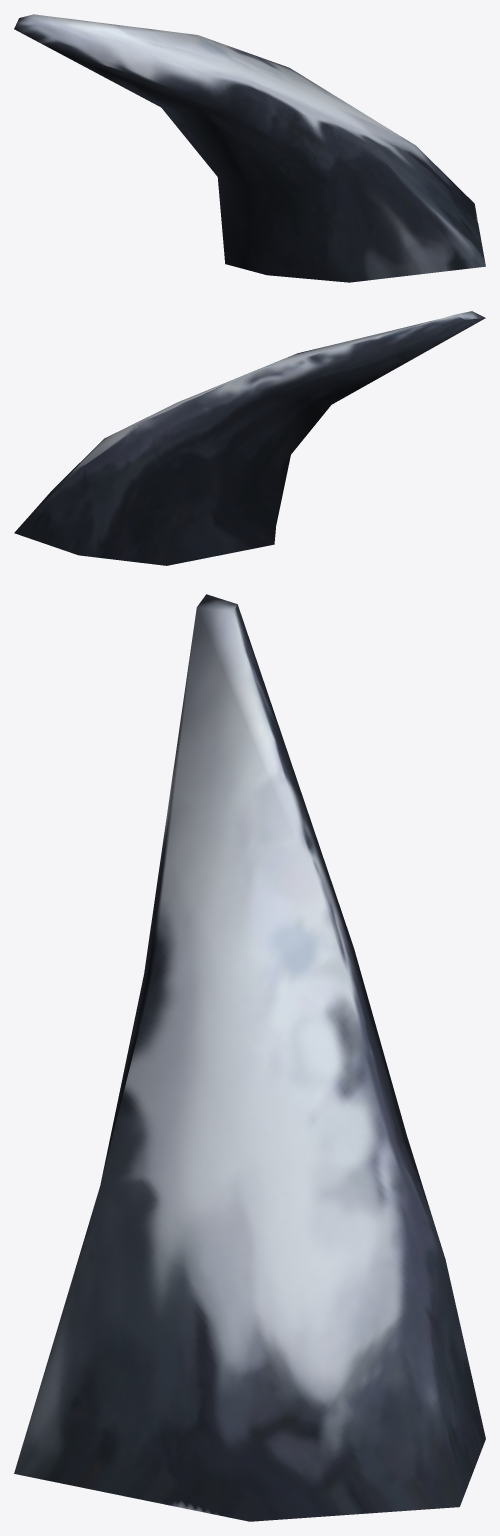
The model's file is LGhuangyuan_shitou03.FBX.
The picture shows the model from 3 angles, top to bottom: view 1: azimuth 30°, elevation 25°; view 2: azimuth 150°, elevation 25°; view 3: azimuth 270°, elevation 25°; orthographic projection. The views are drawn at different scales.
Visible parts, largest first — view 1: LGhuangyuan_shitou03; view 2: LGhuangyuan_shitou03; view 3: LGhuangyuan_shitou03.
Part boxes in pixels (x1,y1,x2,y2): LGhuangyuan_shitou03: (14,14,485,282); LGhuangyuan_shitou03: (14,311,485,565); LGhuangyuan_shitou03: (14,594,485,1521).
Size of the model in its own units: 89.29 by 44.07 by 54.4.
